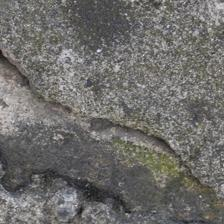Crack: (4, 27, 209, 163)
